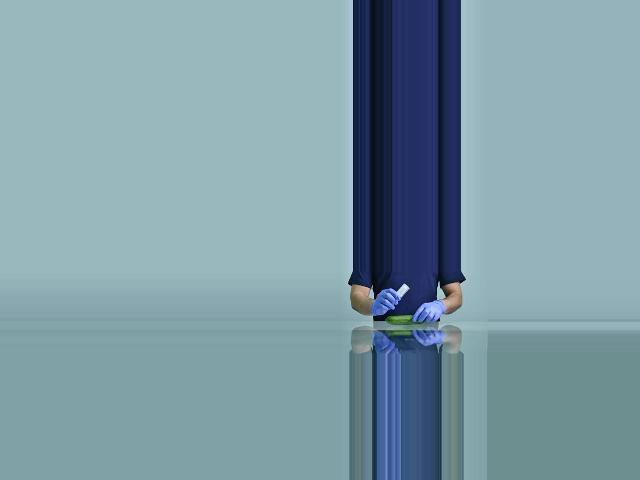cucumber: (384, 315, 424, 325)
